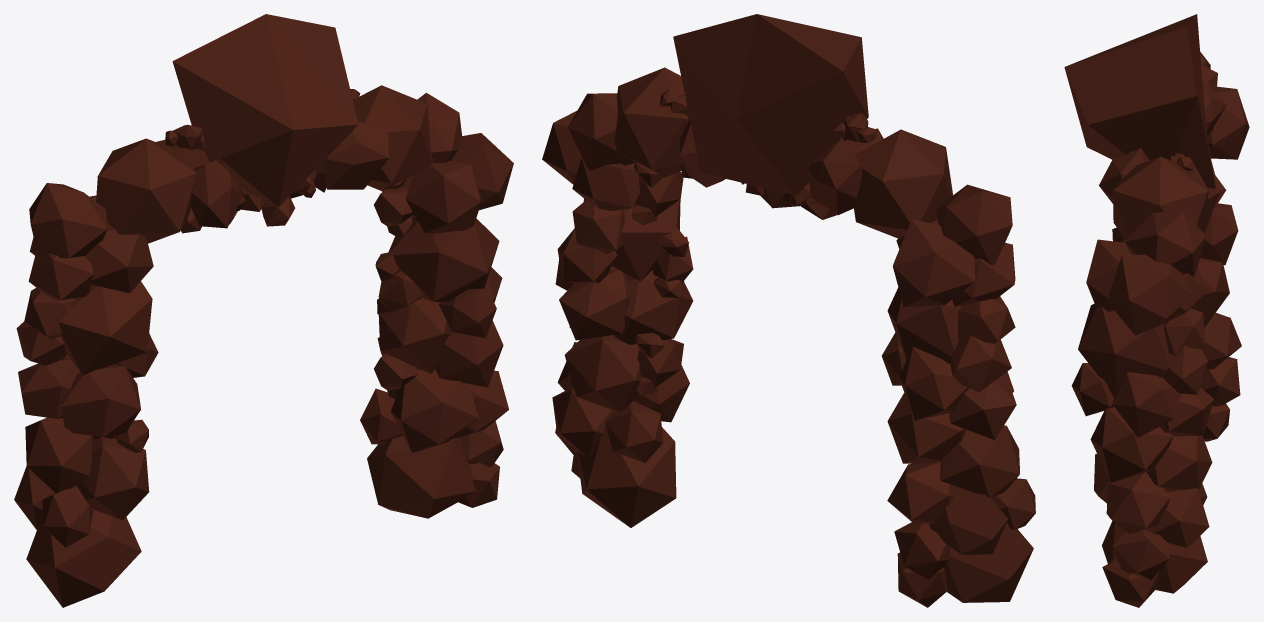
The model's file is Portal_Doorway_Sender.FBX.
3 renders of one model, left to right at view 1: azimuth 30°, elevation 25°; view 2: azimuth 150°, elevation 25°; view 3: azimuth 270°, elevation 25°, orthographic. The views are drawn at different scales.
Visible parts, largest first — view 1: Portal_Doorway_Sender; view 2: Portal_Doorway_Sender; view 3: Portal_Doorway_Sender.
Boxes of the visible parts, <box> form: Portal_Doorway_Sender: <box>14,14,513,607</box>; Portal_Doorway_Sender: <box>542,14,1035,607</box>; Portal_Doorway_Sender: <box>1064,14,1249,607</box>.
Size of the model in its own units: 6.88 by 2.48 by 7.42.
